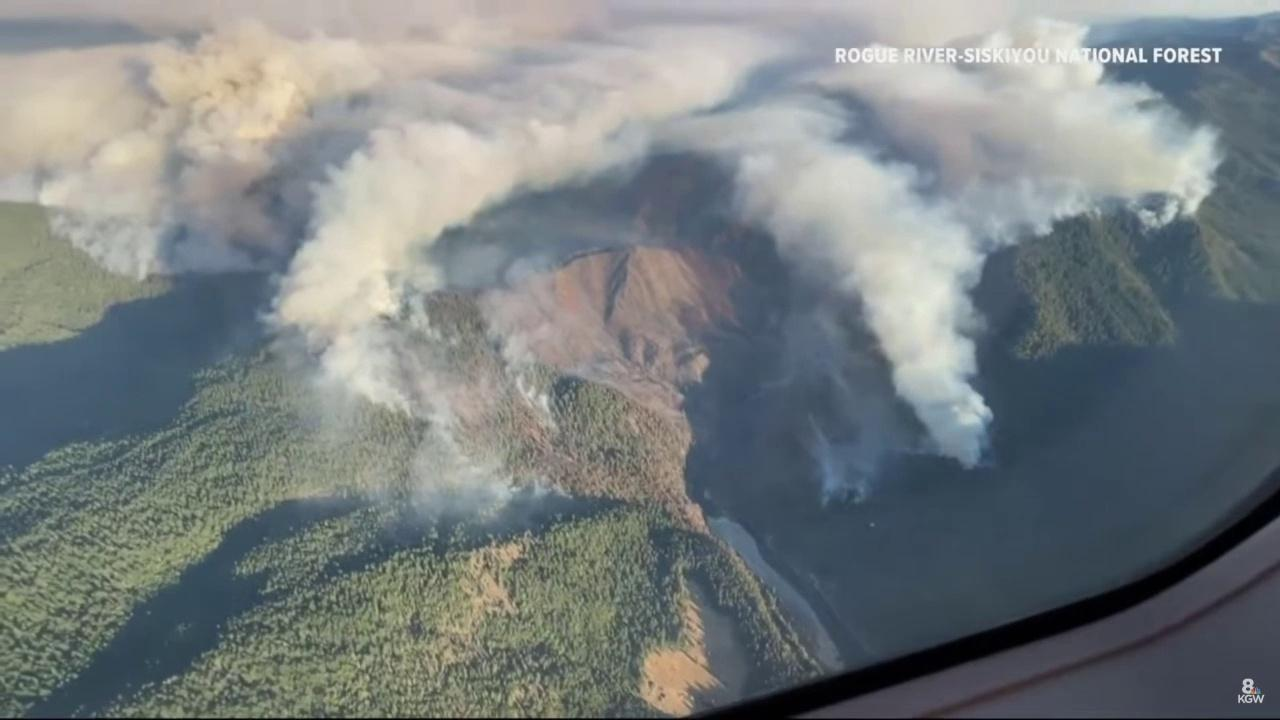smoke: (0, 0, 1229, 530)
